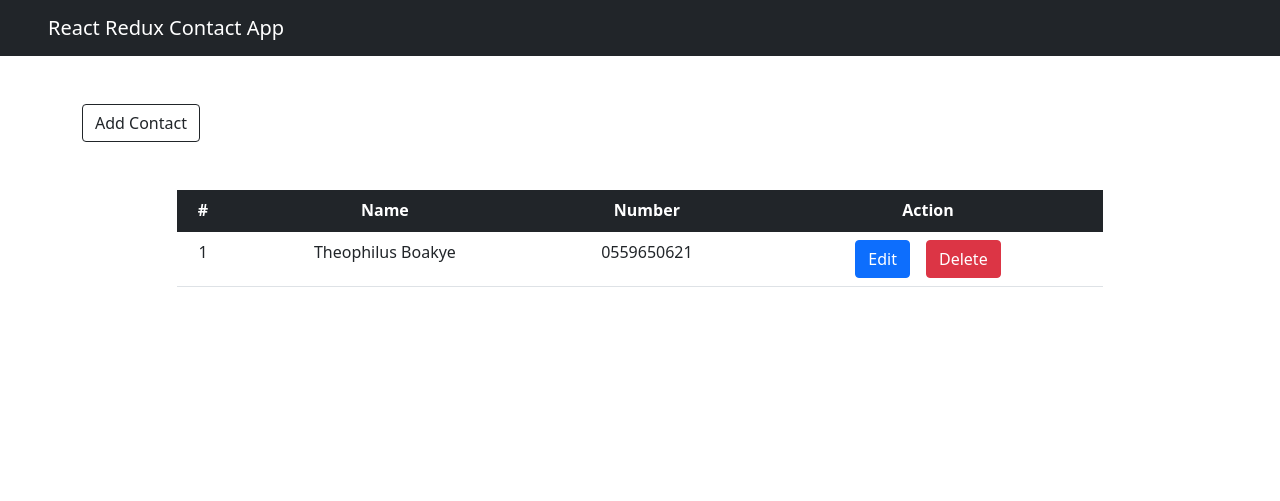
App › edit btn should take user to edit page with inputs already filled with user info
What coordinates should you click on to do the following:
click the link "Edit"
I would click on:
 (883, 259)
Its box is [855,240,910,278].
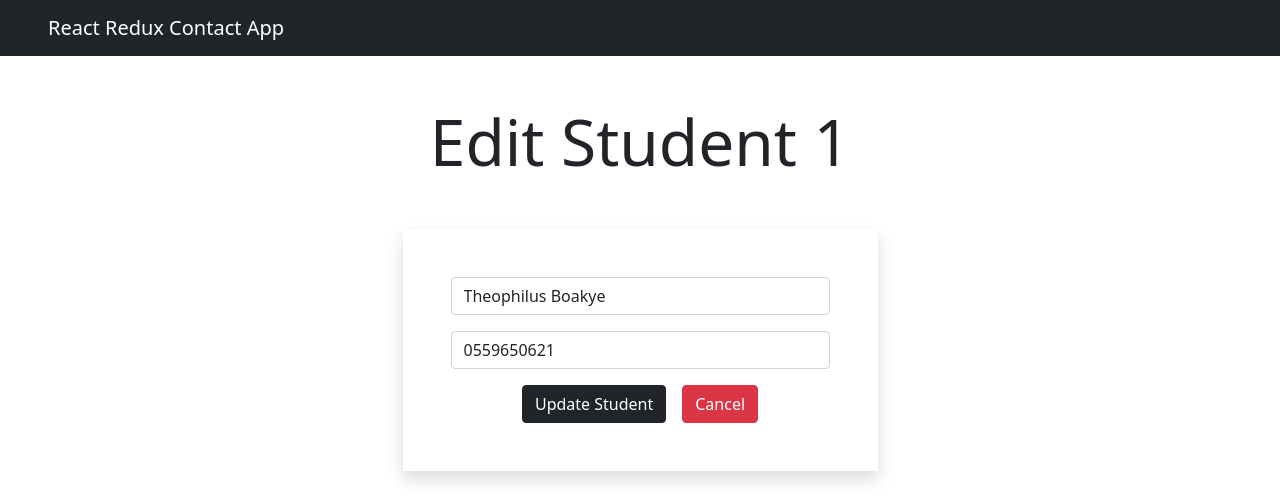
Expected: the field showing "Theophilus Boakye" is shown, [450,277,830,315]
Expected: the number field showing "0559650621" is shown, [450,331,830,369]
